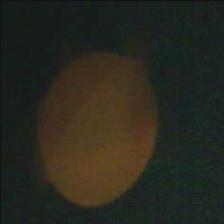fertile: (31, 44, 158, 207)
